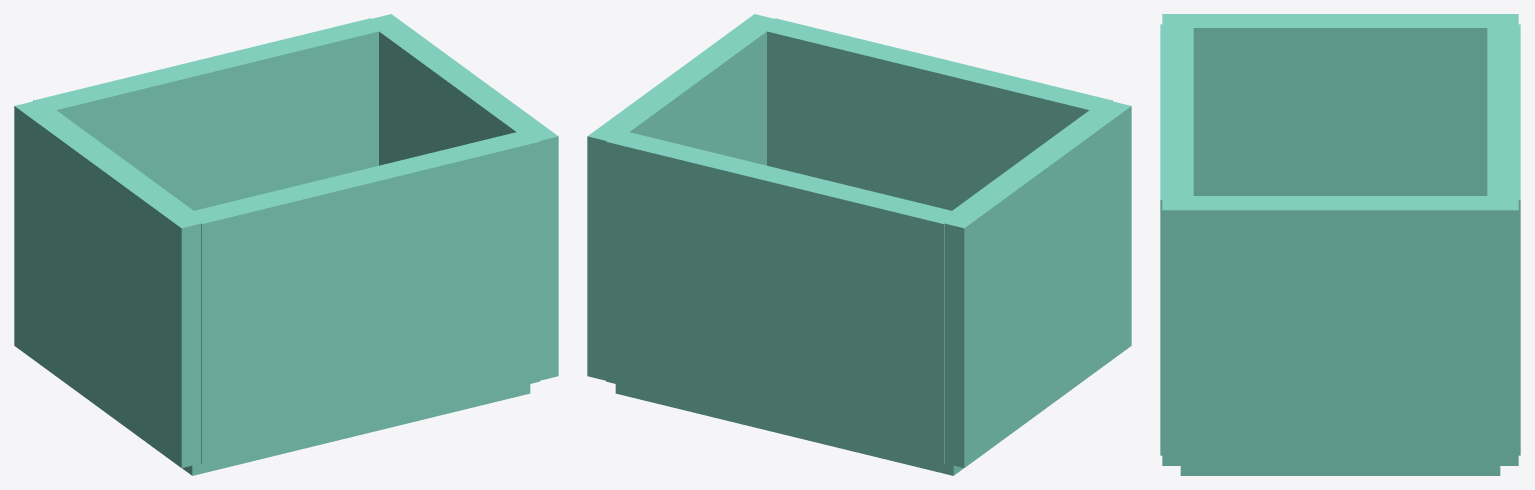
3 renders of one model, left to right at view 1: azimuth 30°, elevation 25°; view 2: azimuth 150°, elevation 25°; view 3: azimuth 270°, elevation 25°, orthographic. The views are drawn at different scales.
Visible parts, largest first — view 1: Bin end, Bin side, Bin end.001, Bin side.001, Bin bottom; view 2: Bin end.001, Bin side, Bin end, Bin side.001, Bin bottom; view 3: Bin side.001, Bin side, Bin end.001, Bin end, Bin bottom.
Boxes of the visible parts, x1,y1,x2,y2 form: Bin end: (194, 132, 539, 463); Bin side: (14, 101, 208, 467); Bin end.001: (33, 18, 385, 210); Bin side.001: (372, 14, 558, 380); Bin bottom: (182, 384, 530, 475); Bin end.001: (606, 130, 958, 463); Bin side: (944, 99, 1131, 467); Bin end: (767, 18, 1112, 210); Bin side.001: (587, 14, 781, 380); Bin bottom: (615, 384, 963, 475); Bin side.001: (1162, 196, 1518, 465); Bin side: (1162, 14, 1518, 195); Bin end.001: (1487, 24, 1520, 455); Bin end: (1160, 24, 1193, 455); Bin bottom: (1180, 466, 1500, 475).
Size of the model in its own units: 62.5 by 41 by 48.5.
